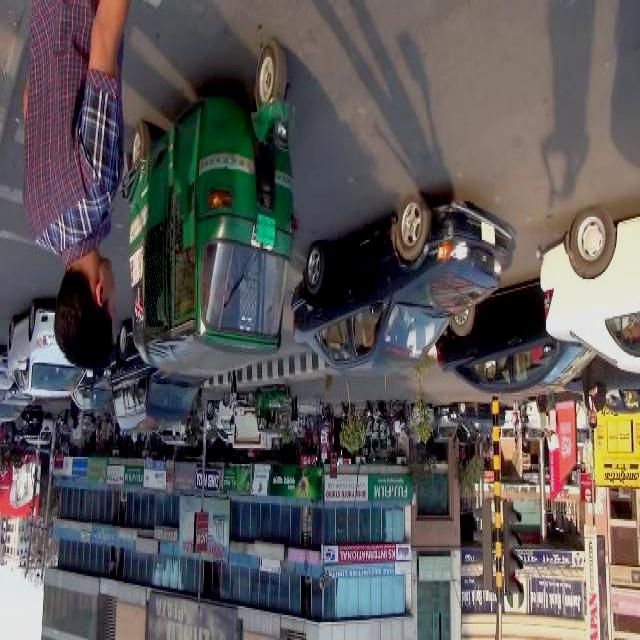black: (291, 200, 511, 376), (433, 277, 600, 401)
